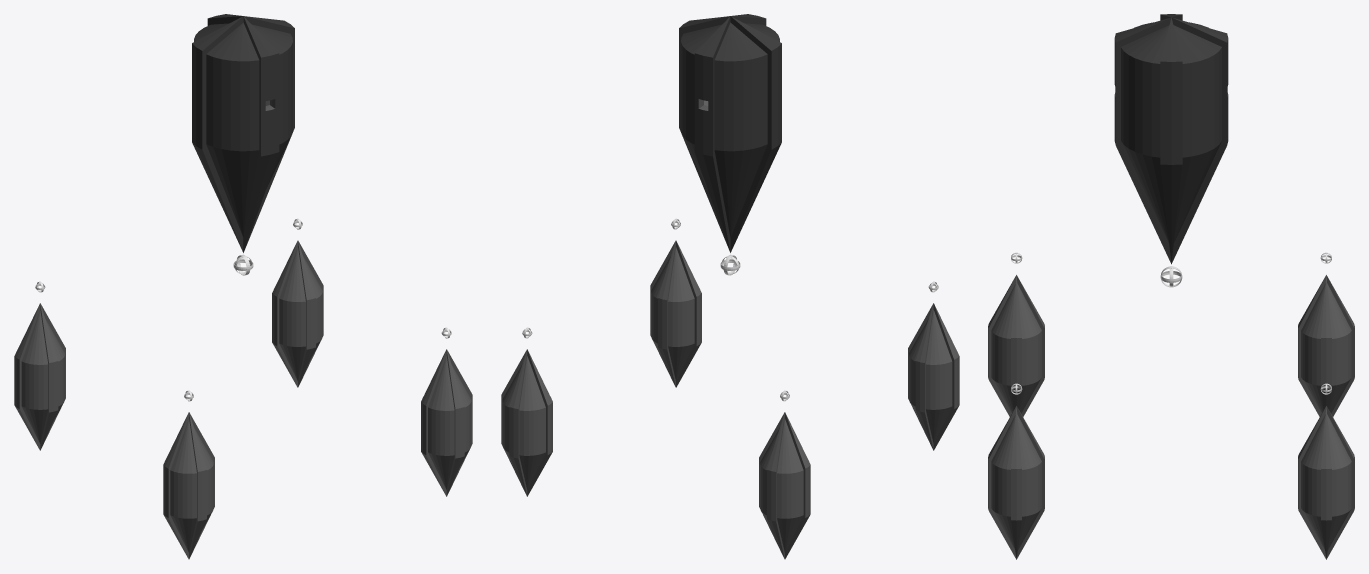
File: SpaceStation3.fbx
3 renders of one model, left to right at view 1: azimuth 30°, elevation 25°; view 2: azimuth 150°, elevation 25°; view 3: azimuth 270°, elevation 25°, orthographic. The views are drawn at different scales.
Visible parts, largest first — view 1: Base, Pillar, Pillar.002, Pillar.001, Pillar.003; view 2: Base, Pillar.001, Pillar.003, Pillar, Pillar.002; view 3: Base, Pillar, Pillar.003, Pillar.001, Pillar.002.
Part boxes in pixels (box(x1,y1,x2,y2)): Base: box(192, 14, 294, 252); Pillar: box(272, 240, 323, 387); Pillar.002: box(163, 412, 214, 559); Pillar.001: box(14, 303, 65, 450); Pillar.003: box(421, 349, 472, 496); Base: box(679, 14, 781, 252); Pillar.001: box(759, 412, 810, 559); Pillar.003: box(650, 240, 701, 387); Pillar: box(501, 349, 552, 496); Pillar.002: box(908, 303, 959, 450); Base: box(1114, 14, 1228, 264); Pillar: box(1298, 406, 1354, 559); Pillar.003: box(988, 406, 1044, 559); Pillar.001: box(1298, 275, 1354, 416); Pillar.002: box(988, 275, 1044, 416).
Size of the model in its own units: 7100 by 10193 by 7100.
2 materials, 2 textured.
